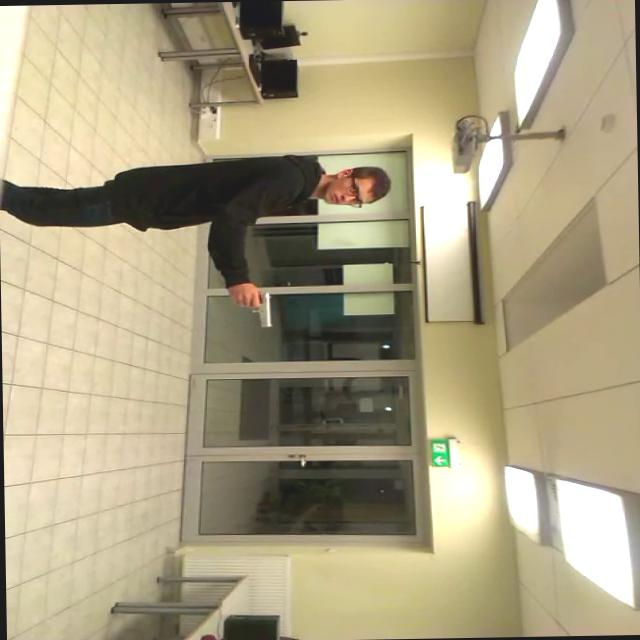handgun: (224, 283, 284, 336)
